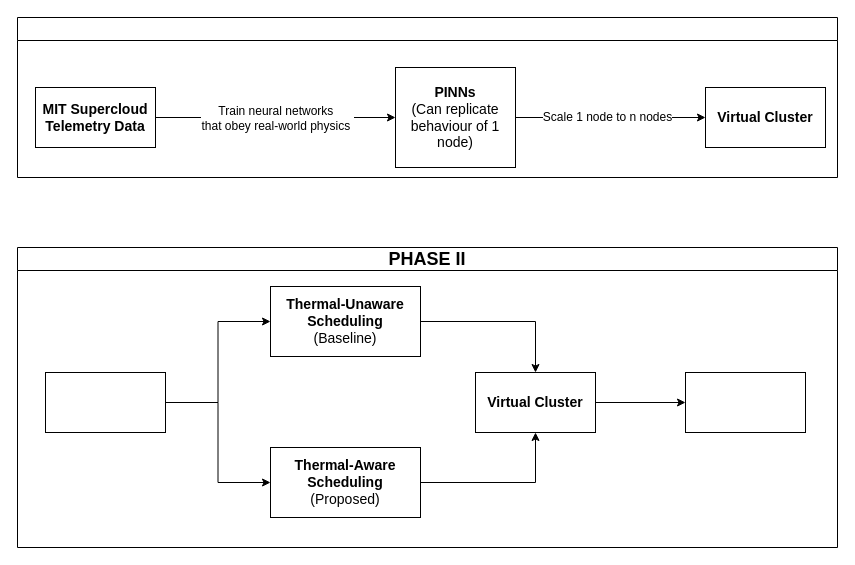
Image size: 855x565. Some labels were removed from this diagram. The shapes that lost their labels are listed below. From the top down, each one's centre as x and y in pixels, then its label:
the point at 427,97: PHASE I
the point at 105,402: Virtual Job Queue
the point at 745,402: Result Comparison
